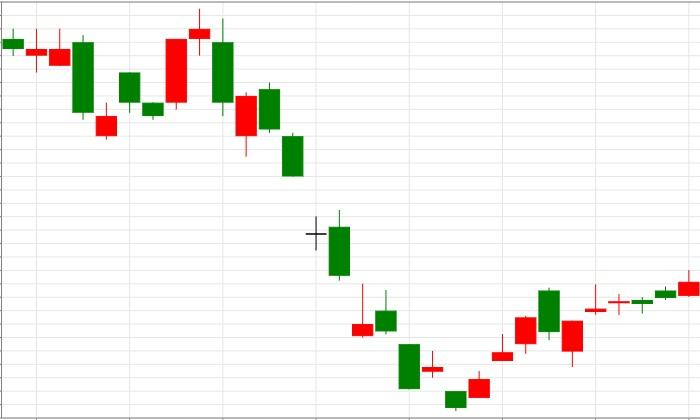inverse_hammer_rise: (259, 79, 374, 338)
